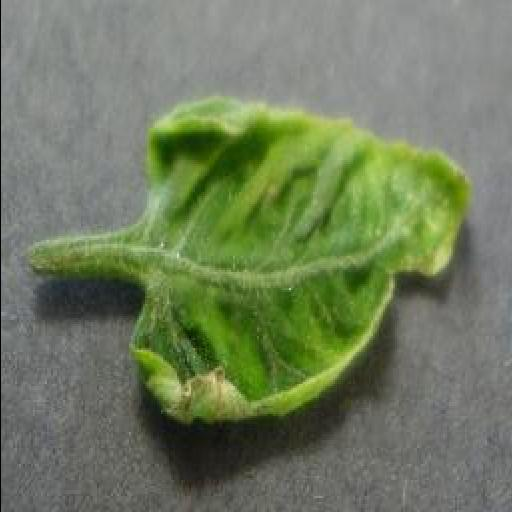disease_tomato: (122, 98, 476, 426)
